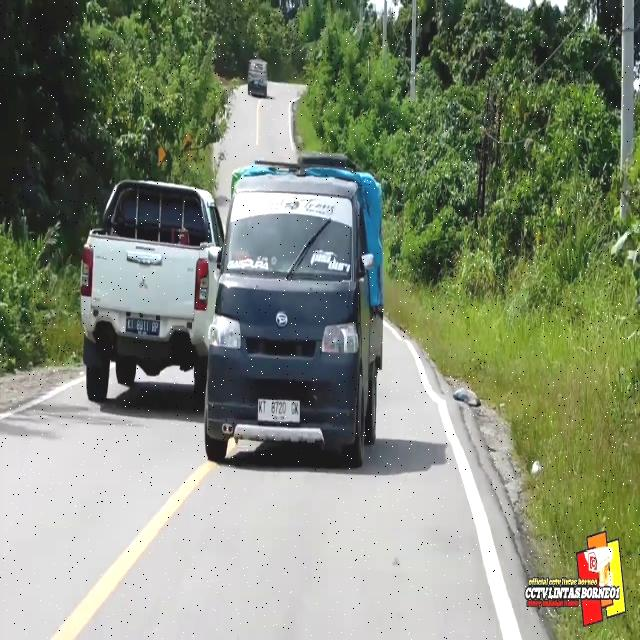Golongan IVB: (203, 155, 384, 470), (78, 178, 225, 406), (246, 56, 268, 100)
